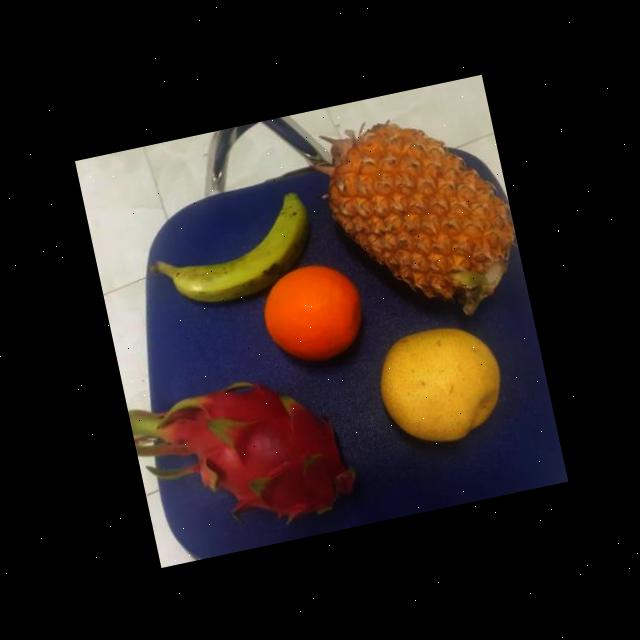banana: (152, 182, 328, 312)
orange: (256, 255, 376, 370)
pear: (370, 314, 516, 452)
pineapple: (321, 102, 527, 328)
pitaya: (164, 361, 362, 537)
